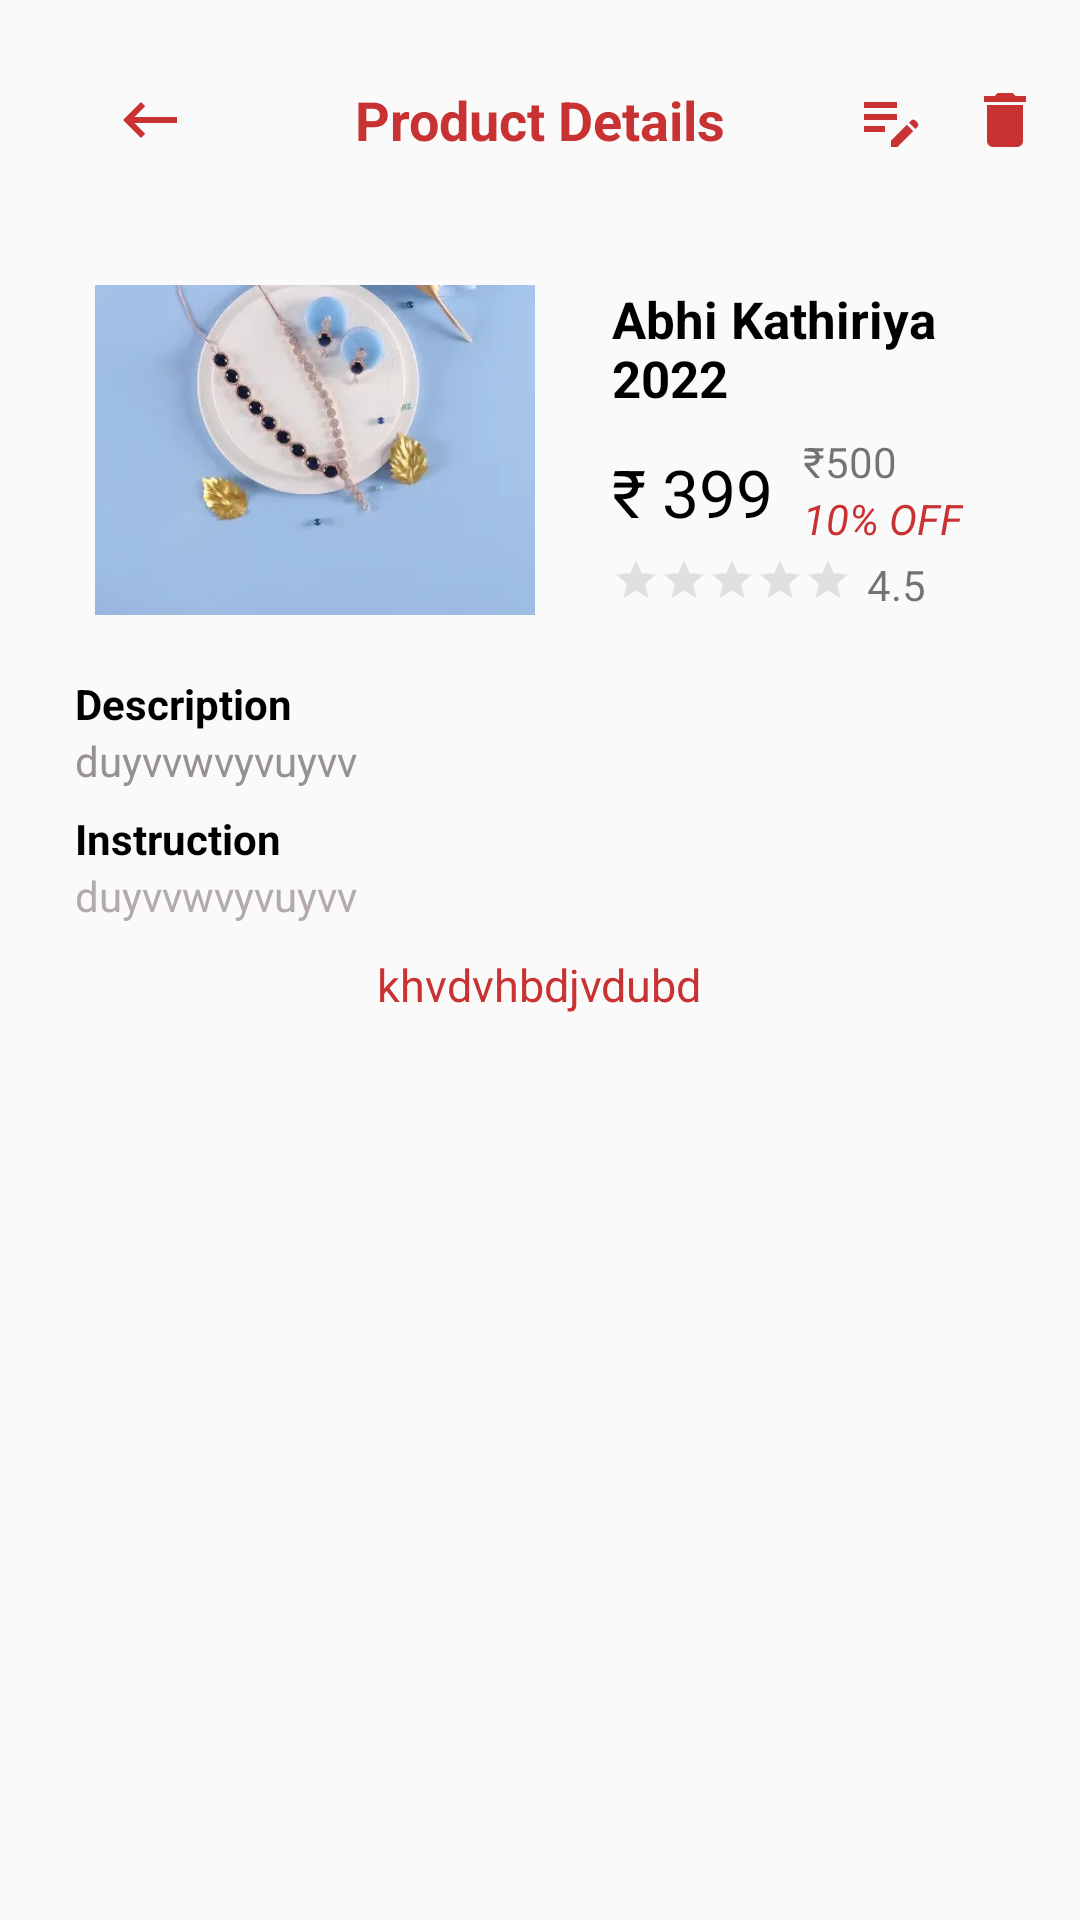

Where icons sit on this 1080×1920 app screen, as bbox=[x1, y1, x2, y2]:
delete: bbox=[984, 93, 1026, 147]
edit note: bbox=[864, 102, 919, 147]
keyboard backspace: bbox=[123, 102, 177, 138]
